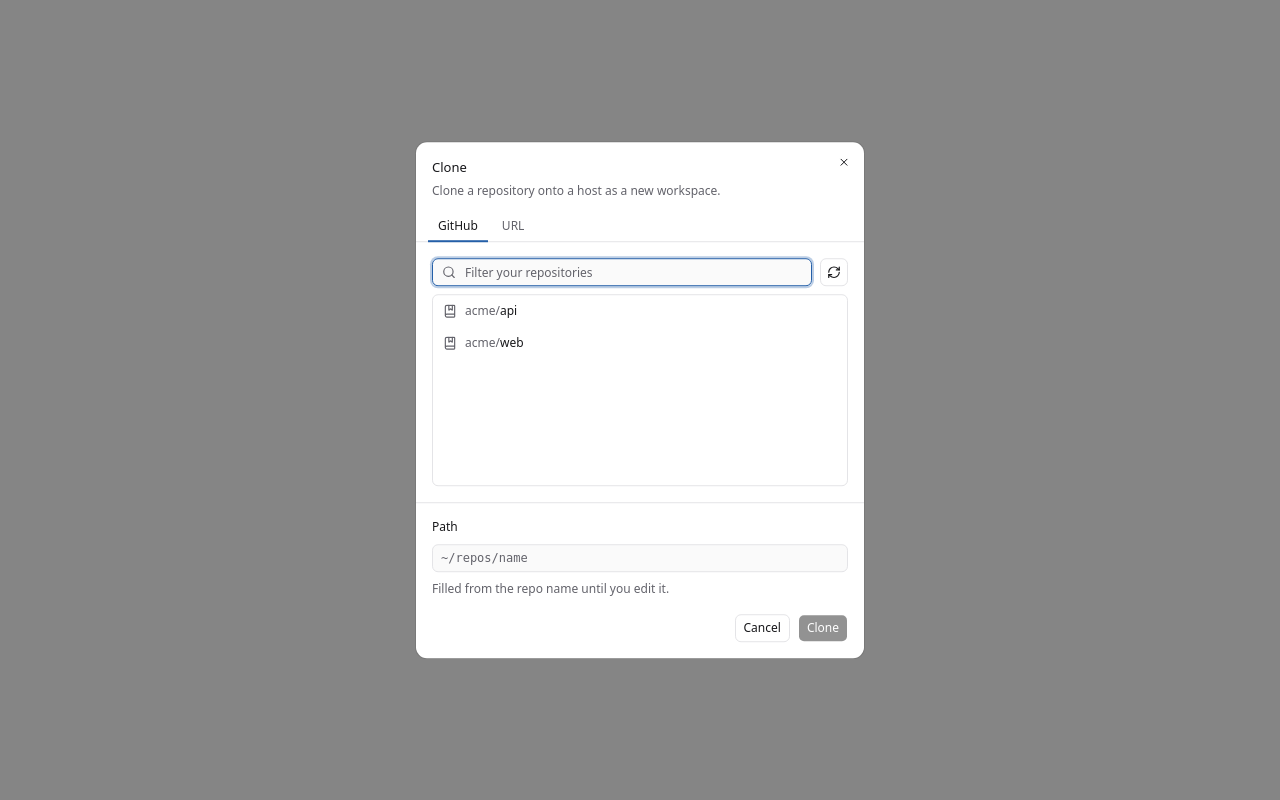
Test: CloneDialog repo list › filters the list and picks with the arrow keys
Expected: the option "acme/web" is shown, left=443, top=334, right=524, bottom=351
Type "WE" into the field named "Filter repositories" at (622, 272), box left=432, top=258, right=812, bottom=286
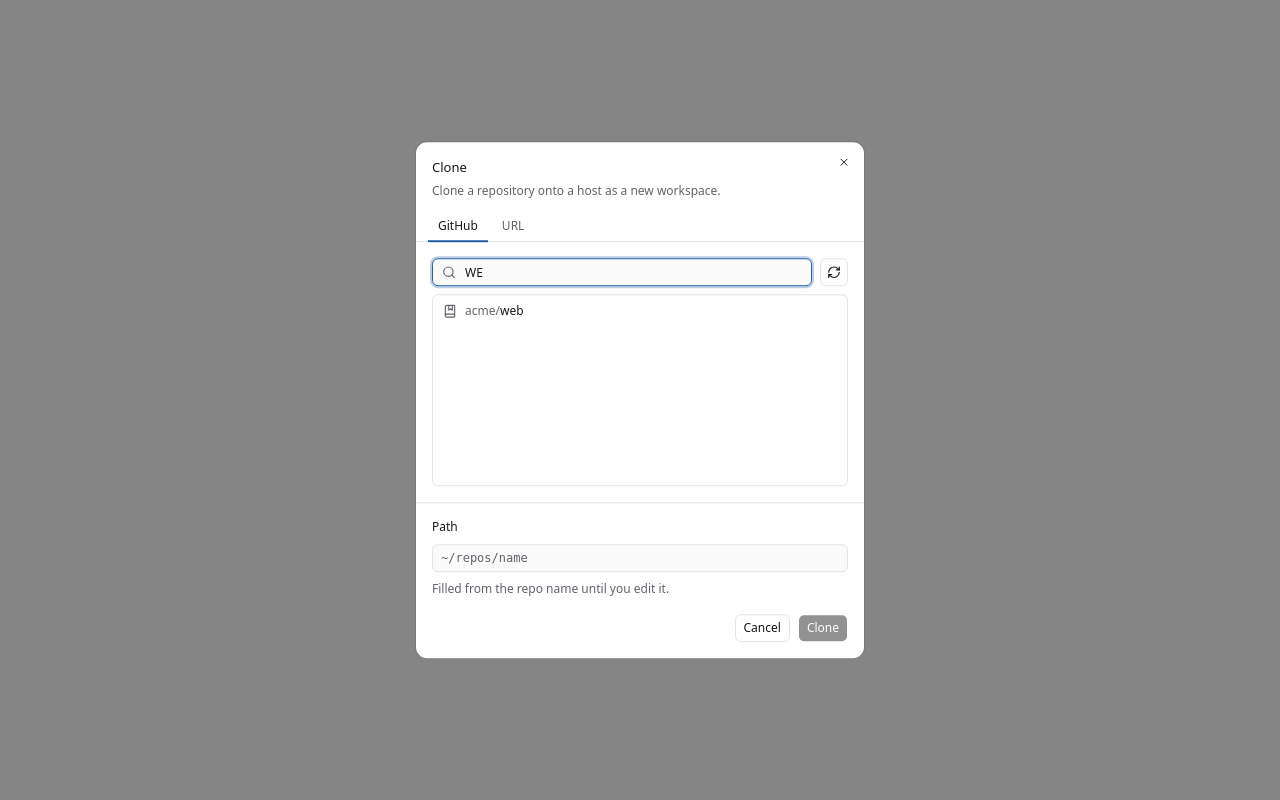
Now the option "acme/api" is gone
Press ArrowDown in the field named "Filter repositories", box left=432, top=258, right=812, bottom=286
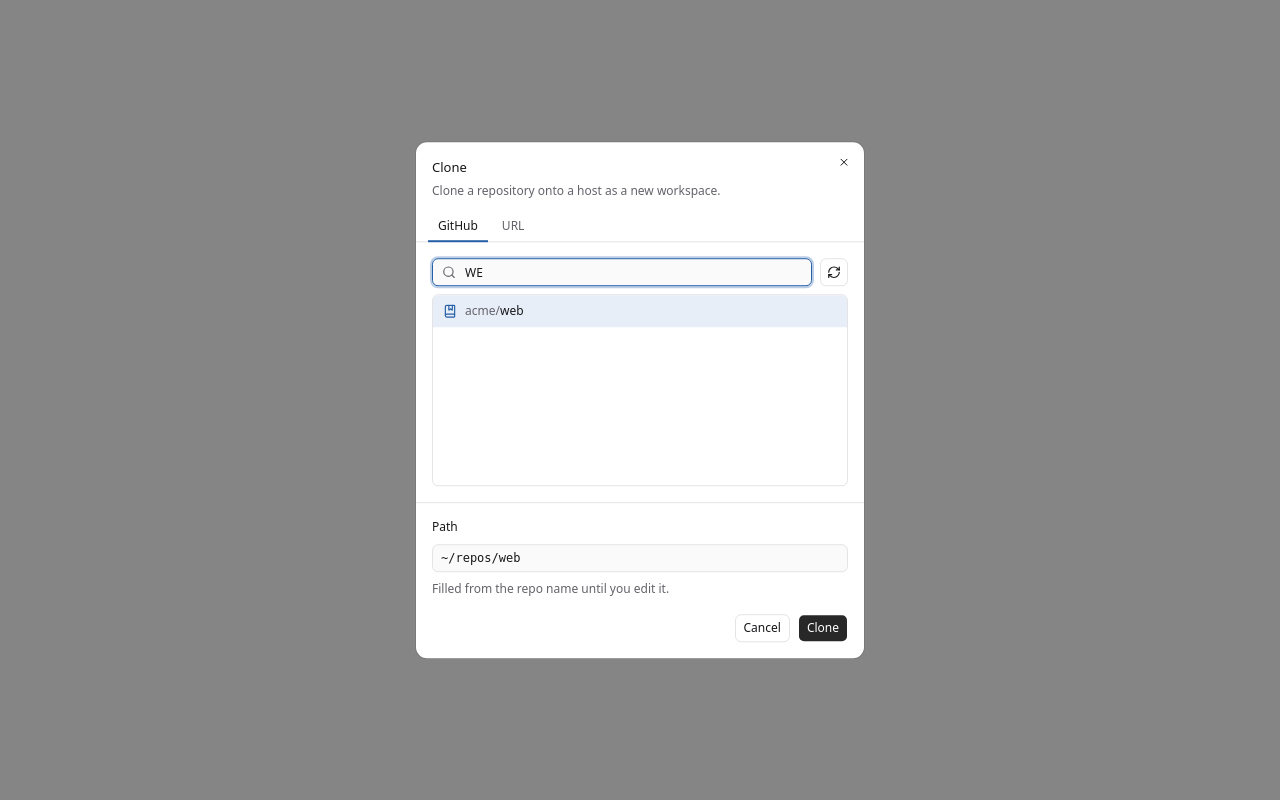
Now the field labelled "Path" holds "~/repos/web", box left=432, top=544, right=848, bottom=572
Replace the text in the field named "Filter repositories" with "nope" at (622, 272), box left=432, top=258, right=812, bottom=286
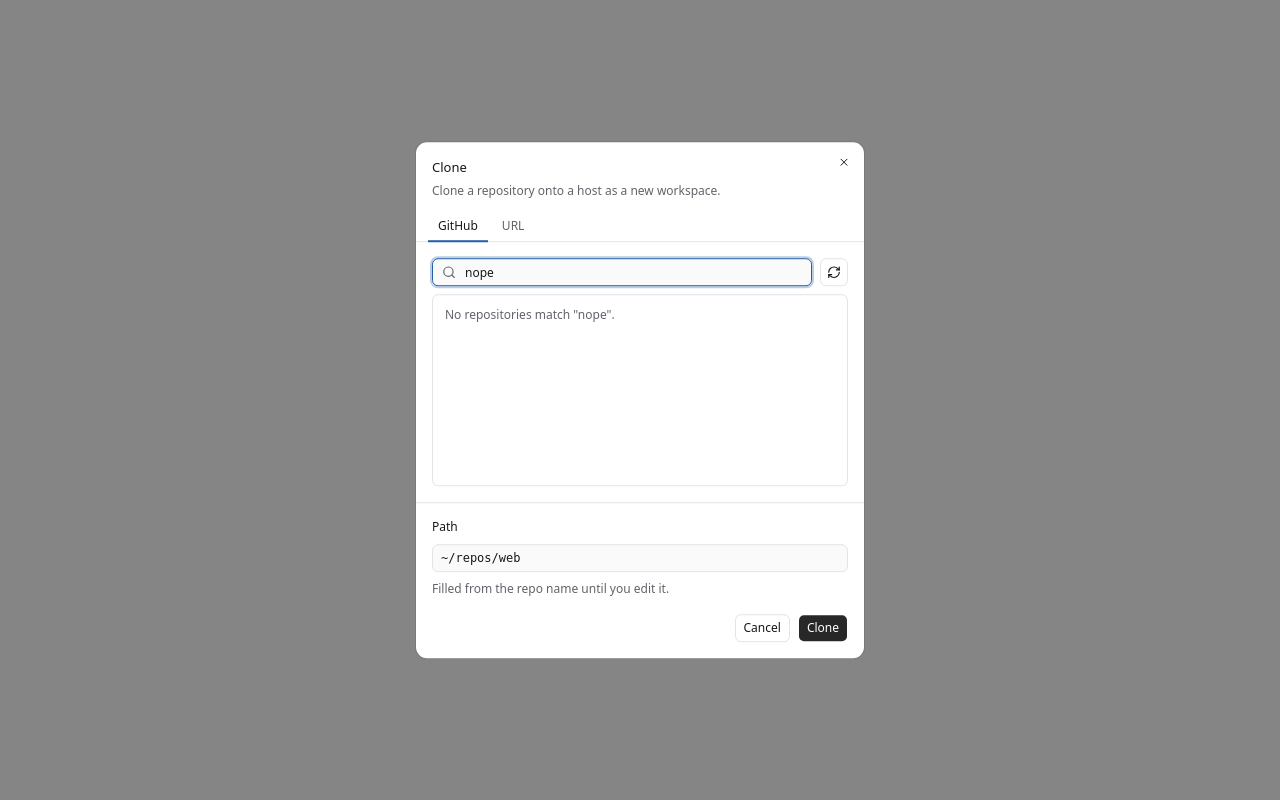
Now the text "No repositories match \"nope\"." is shown, box left=445, top=306, right=615, bottom=323
